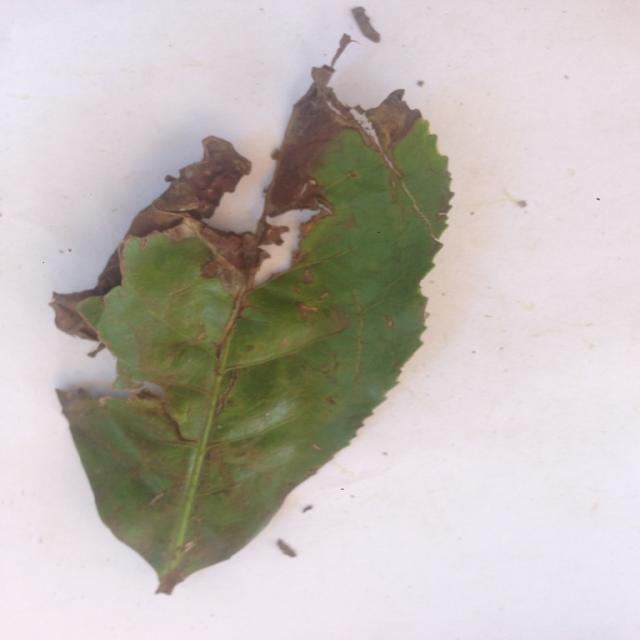Brown Blight: (40, 27, 474, 596)
